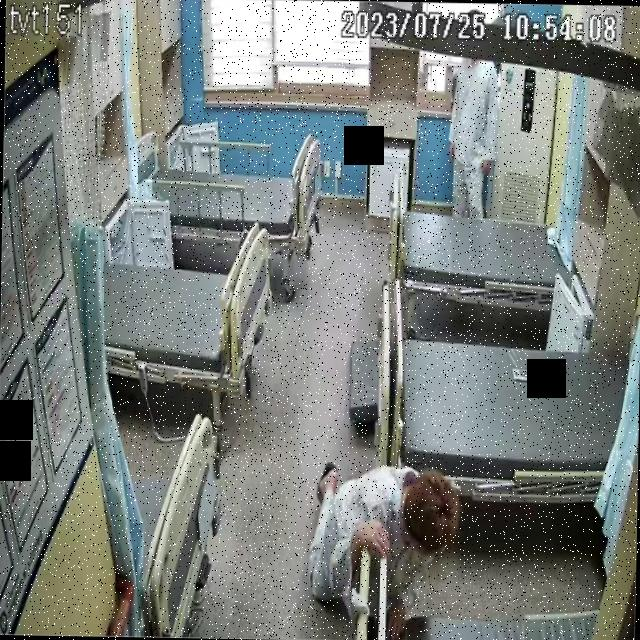bed: (394, 328, 631, 506), (100, 219, 276, 399), (136, 130, 324, 254), (389, 185, 572, 309)
danger: (301, 463, 459, 640)
patient: (300, 464, 458, 640)
